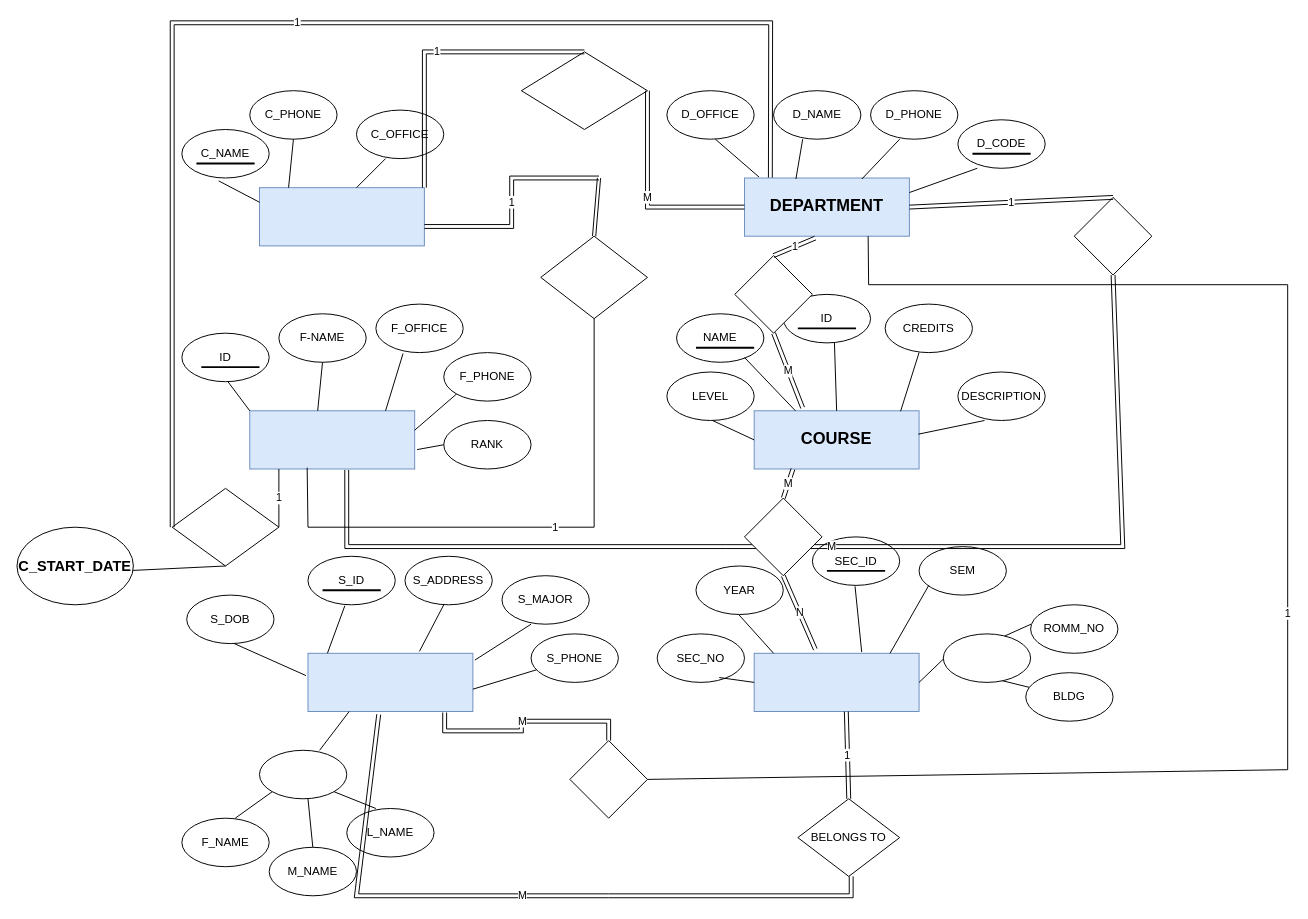
This 1308x919 diagram has some shape labels left out. Each missing label, with the centre of its shape:
ADMINISTERS: point 583,90
ASSIGN: point 608,779
C_ROOM: point 986,657
CHAIR_MAN: point 225,526
COLLEGE: point 341,216
DEAN: point 593,277
FACULTY: point 332,439
OFFER: point 773,294
OFFERED: point 783,536
S_NAME: point 303,774
SECTION: point 836,681
STUDENT: point 390,681
WORKS: point 1112,235
